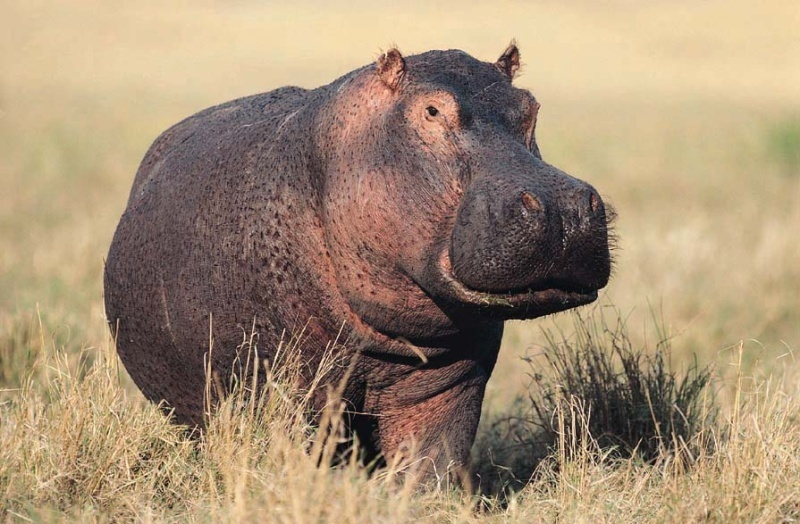hipopotamo: (101, 44, 619, 513)
